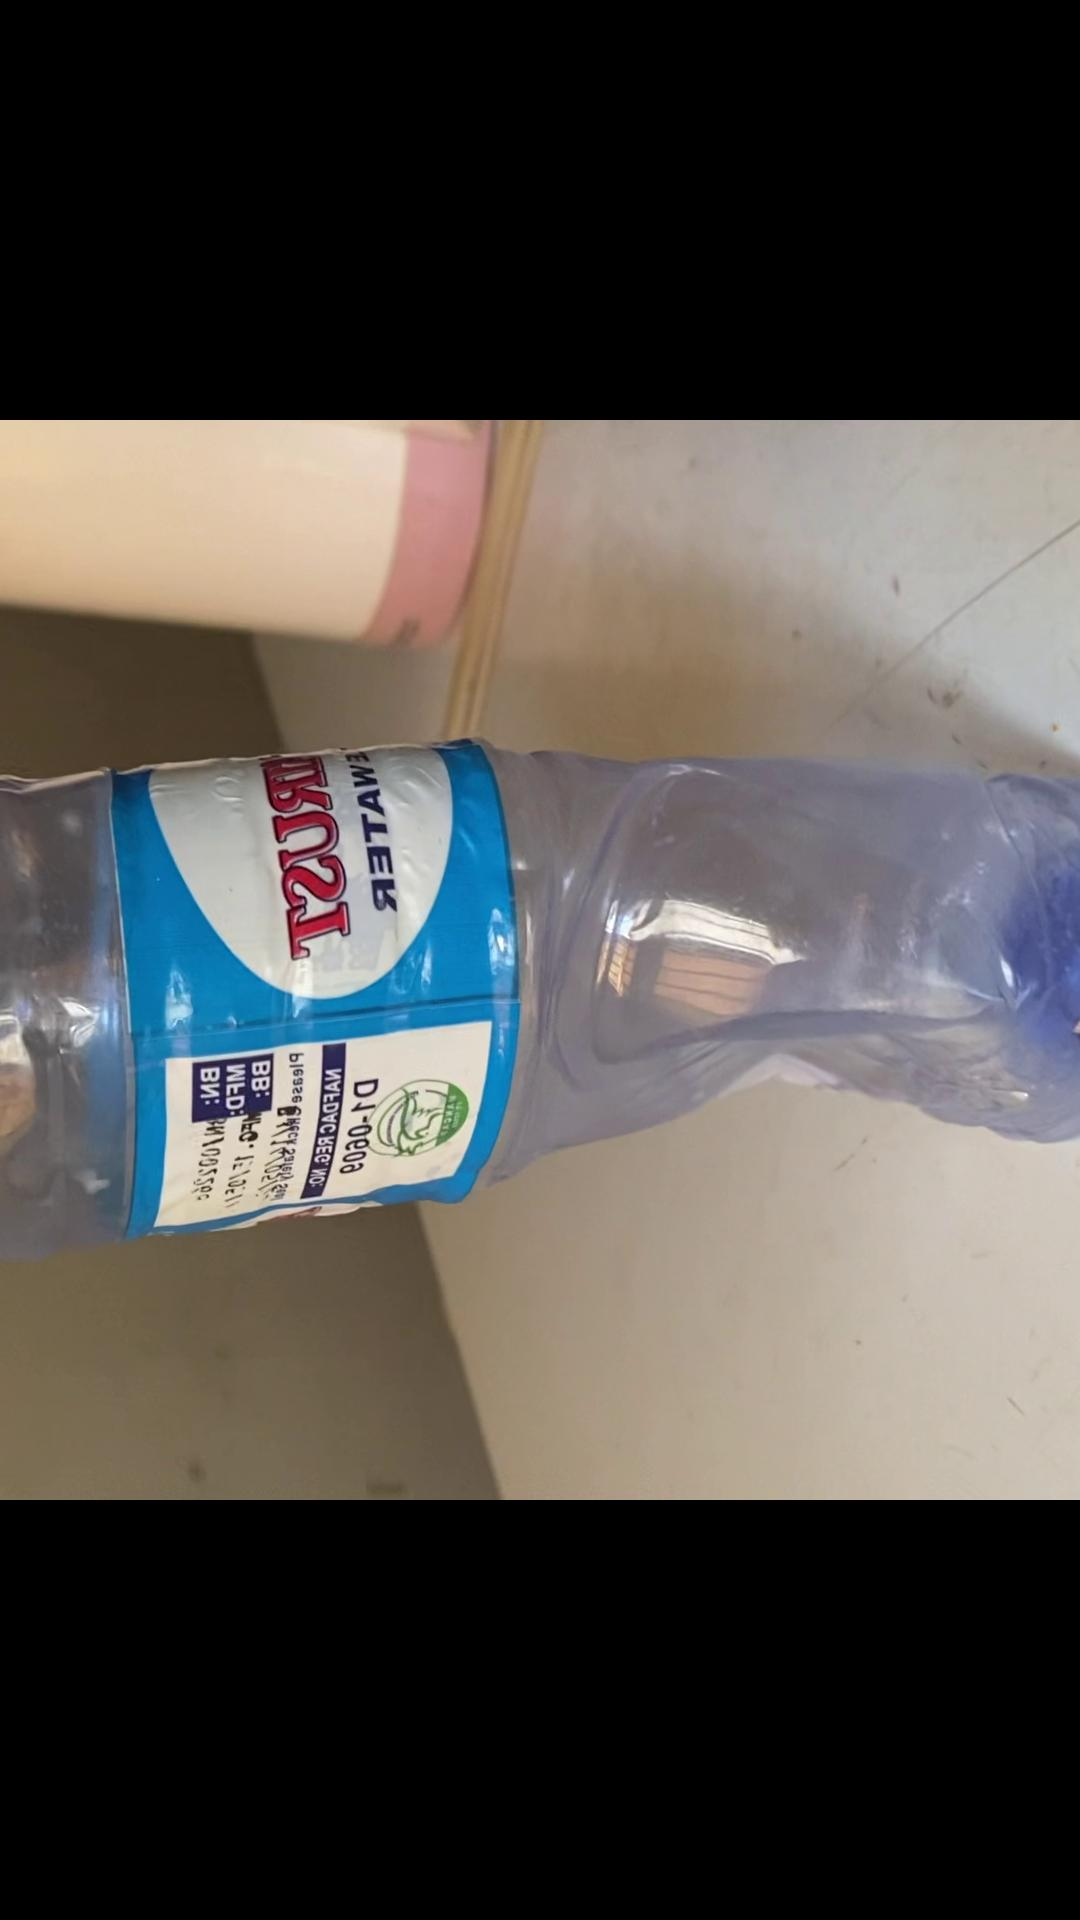crumbled: (0, 731, 1080, 1255)
label: (113, 752, 508, 1215)
